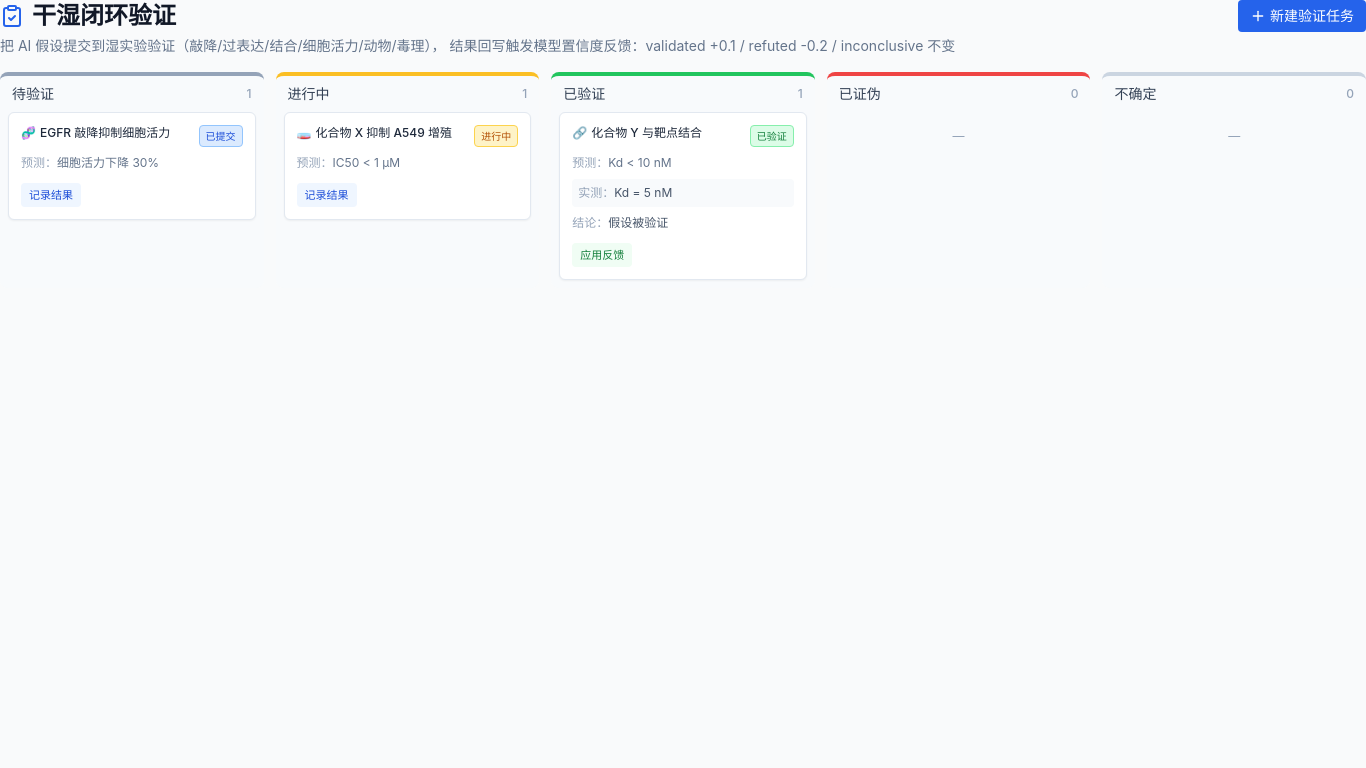
Scenario: ValidationsPage › 点击"记录结果"打开 Modal 并可选结论
expect the text "EGFR 敲降抑制细胞活力" is shown: met, box [40,125,170,140]
Click the button "记录结果" below "细胞活力下降 30%" at (51, 195), box [21,183,81,207]
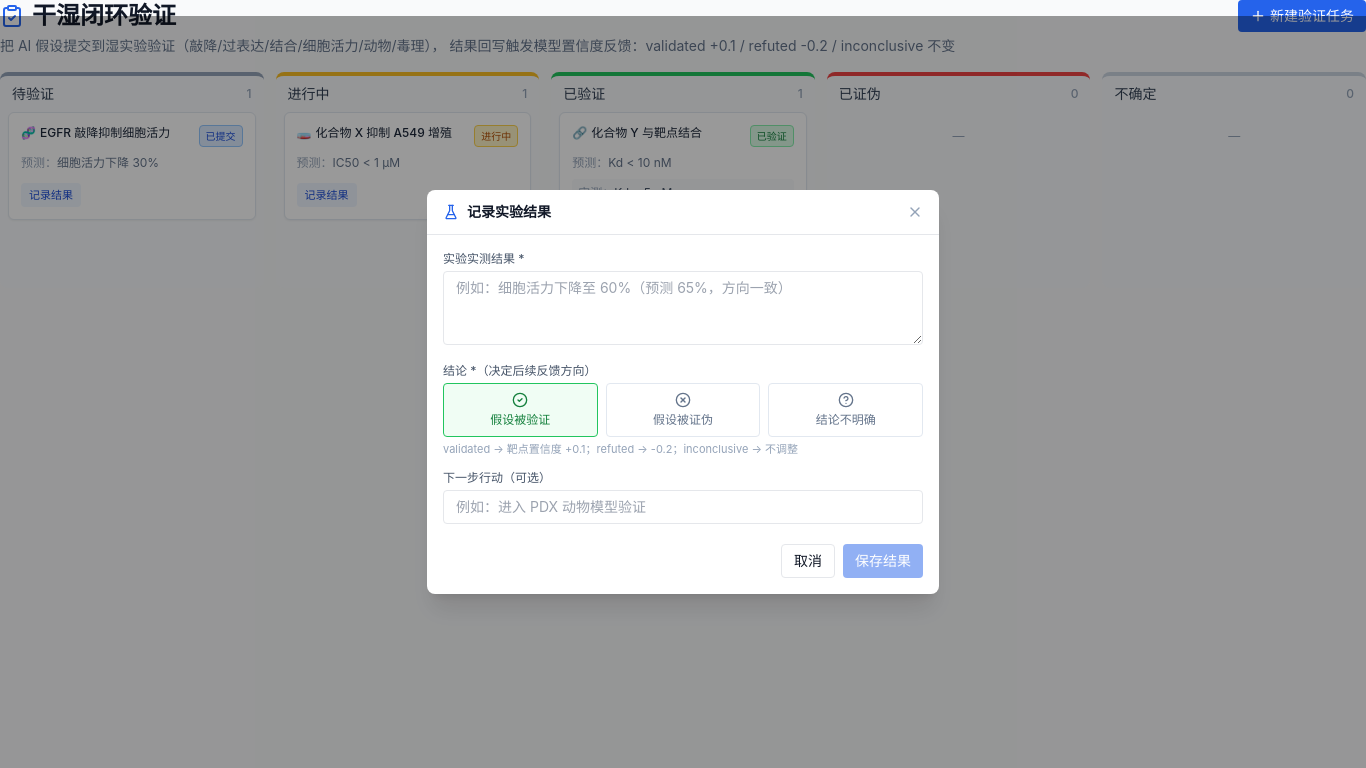
expect the heading "记录实验结果" is shown: met, box [443,202,551,222]
expect the button "假设被证伪" is shown: met, box [606,383,760,437]
expect the button "结论不明确" is shown: met, box [768,383,923,437]
